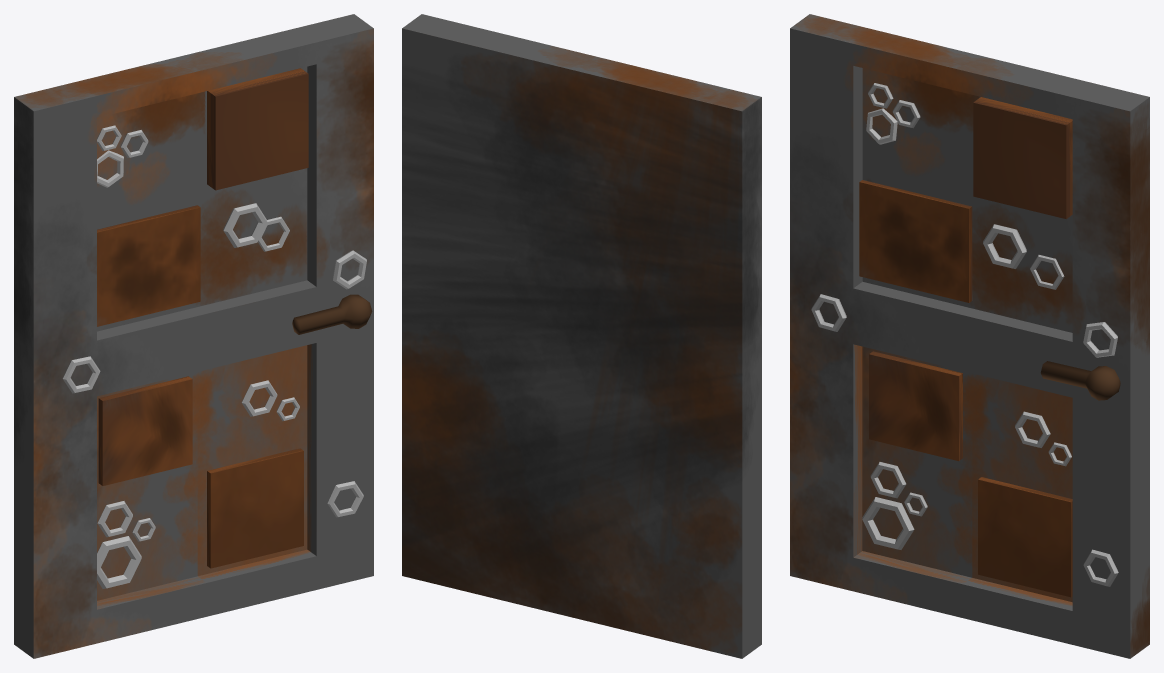
File: Tür.fbx
3 renders of one model, left to right at view 1: azimuth 30°, elevation 25°; view 2: azimuth 150°, elevation 25°; view 3: azimuth 330°, elevation 25°, orthographic.
Parts seen in each view (by area): view 1: Cube, Sphere, Torus.002, Torus.007, Torus.006, Torus.011, Torus, Torus.010, Torus.012; view 2: Cube; view 3: Cube, Sphere, Torus.002, Torus.007, Torus.006, Torus.011, Torus, Torus.010, Torus.012, Torus.003.
Boxes of the visible parts, <box> form: Cube: <box>14,14,373,658</box>; Sphere: <box>292,294,372,334</box>; Torus.002: <box>97,536,141,588</box>; Torus.007: <box>223,203,267,247</box>; Torus.006: <box>333,250,366,289</box>; Torus.011: <box>62,356,100,393</box>; Torus: <box>97,501,132,537</box>; Torus.010: <box>241,380,277,416</box>; Torus.012: <box>327,481,363,517</box>; Cube: <box>402,14,761,658</box>; Cube: <box>790,14,1149,658</box>; Sphere: <box>1040,361,1120,400</box>; Torus.002: <box>862,497,914,549</box>; Torus.007: <box>983,224,1026,268</box>; Torus.006: <box>1083,322,1117,357</box>; Torus.011: <box>811,294,846,331</box>; Torus: <box>870,462,906,498</box>; Torus.010: <box>1015,411,1050,447</box>; Torus.012: <box>1083,549,1118,586</box>; Torus.003: <box>866,108,897,144</box>.
Size of the model in its own units: 260 by 400 by 43.05.
3 materials, 2 textured.
